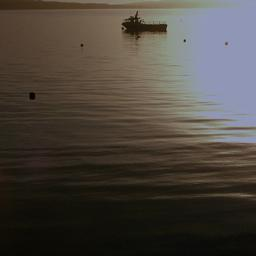boat: (176, 20, 247, 68)
